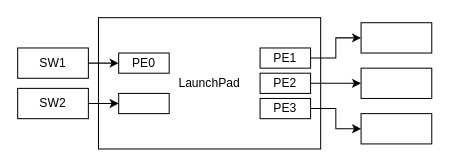
This 449x167 diagram has some shape labels left out. The shapes that lost their labels are listed below. From the top down, each one's box as (x1, y1, x2, y2) in pixels, then its label:
(360, 22, 432, 53): Red LED
(360, 67, 432, 98): Yellow LED
(118, 92, 169, 114): PE4
(360, 113, 432, 144): Green LED
